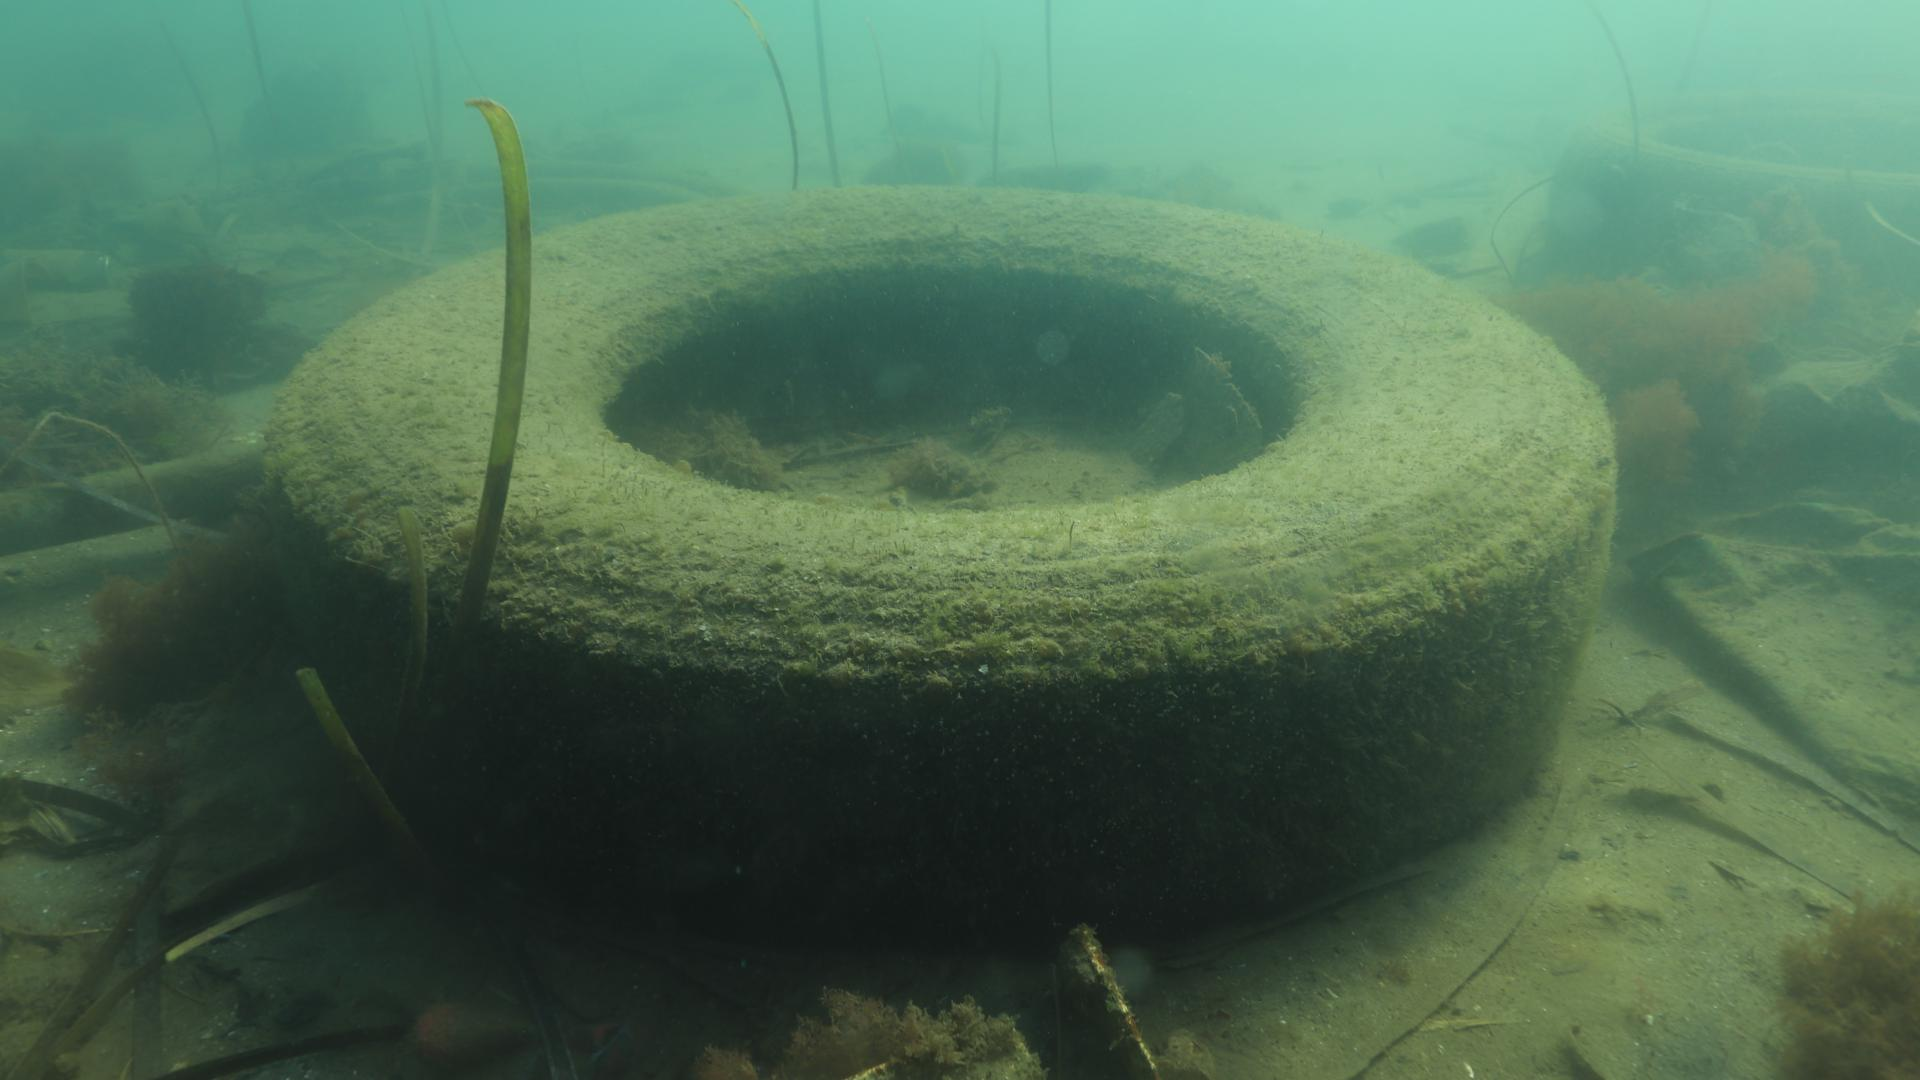tire: (262, 177, 1615, 948)
